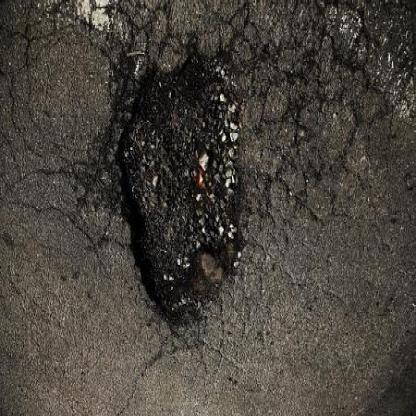pothole: (102, 52, 254, 335)
